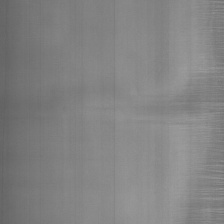waist_folding: (175, 20, 219, 224)
